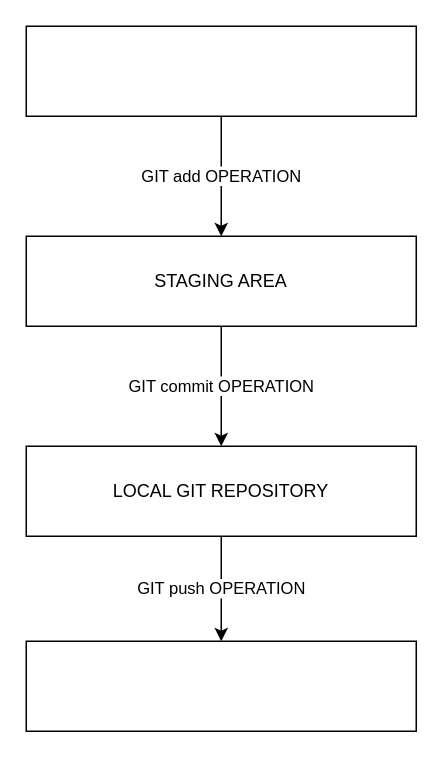
Image size: 443x758. Some labels were removed from this diagram. The shapes that lost their labels are listed below. From the top down, each one's centre as x and y in pixels, then its label:
point (220, 70): WORKING TREE/ DIRECTORY
point (220, 685): REMOTE GIT REPOSITORY
